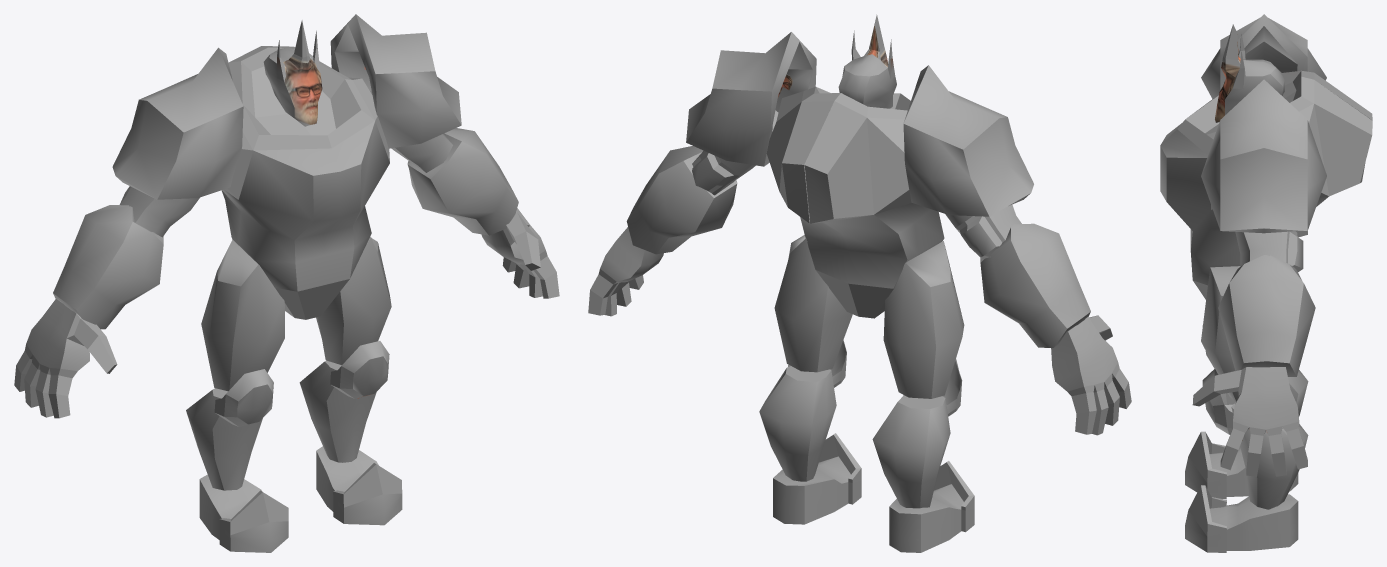
File: frankhart.fbx
The picture shows the model from 3 angles, left to right: view 1: azimuth 30°, elevation 25°; view 2: azimuth 150°, elevation 25°; view 3: azimuth 270°, elevation 25°; orthographic projection. The views are drawn at different scales.
Visible parts, largest first — view 1: basic_1; view 2: basic_1; view 3: basic_1.
Boxes of the visible parts, <box> form: basic_1: <box>14,14,559,552</box>; basic_1: <box>588,14,1131,552</box>; basic_1: <box>1160,14,1372,552</box>.
Size of the model in its own units: 24886 by 23555 by 9303.
